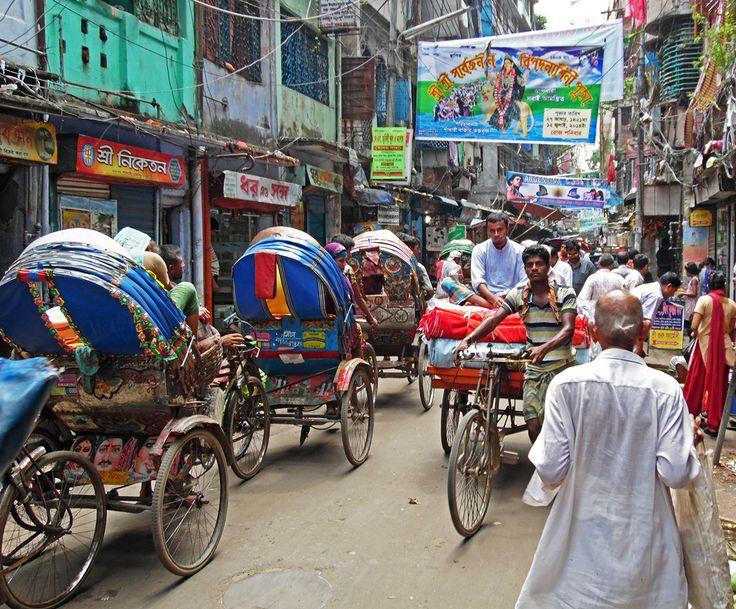Rickshaw: (0, 229, 231, 575), (233, 227, 374, 465), (421, 303, 526, 536), (349, 230, 432, 409), (441, 239, 473, 257)
